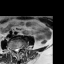CCS_normal: (16, 46, 18, 56)
LFS_normal: (20, 44, 22, 50)
LLS_normal: (18, 45, 20, 52)
RFS_stenosis: (12, 46, 14, 52)
RLS_normal: (14, 46, 16, 53)
